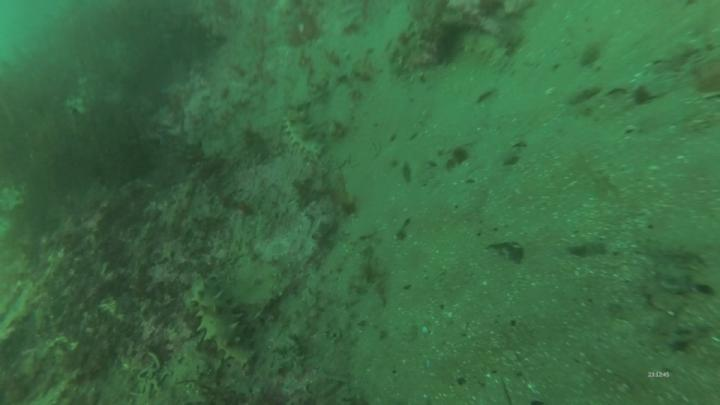holothurian: (186, 276, 261, 371), (282, 105, 330, 159)
